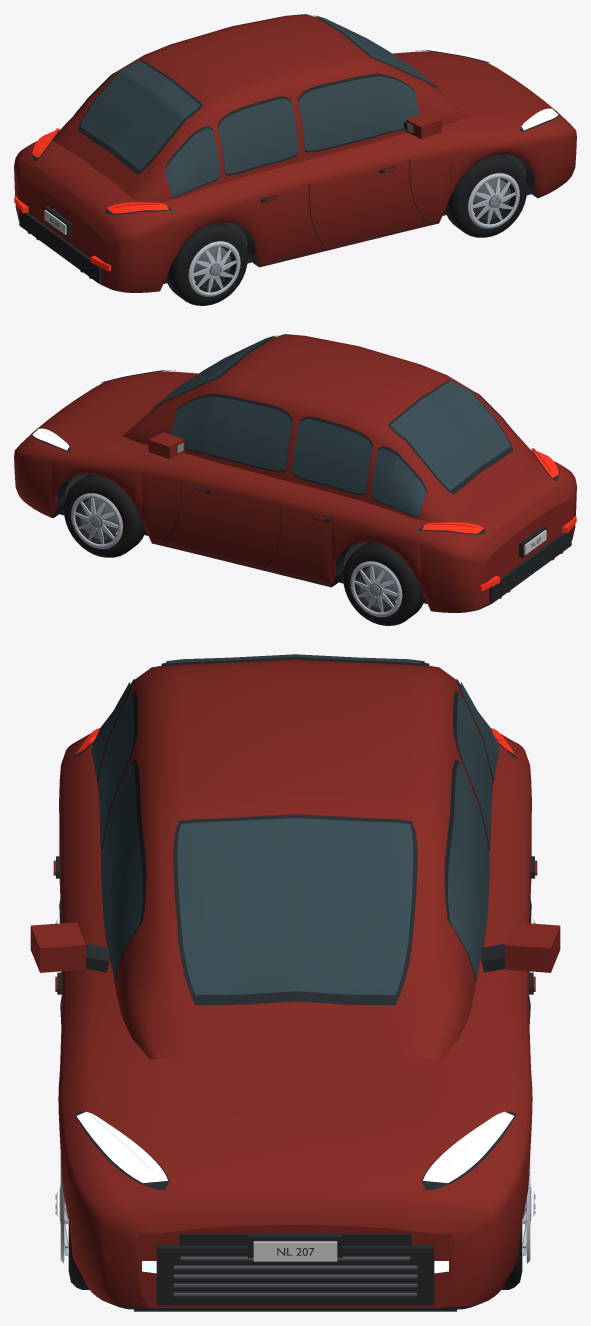
The model's file is northline-5-static-mobile.glb.
3 views of the same model, one above another, from view 1: azimuth 30°, elevation 25°; view 2: azimuth 150°, elevation 25°; view 3: azimuth 270°, elevation 25° (orthographic). The views are drawn at different scales.
Visible parts, largest first — view 1: Northline_5_Static_Mobile; view 2: Northline_5_Static_Mobile; view 3: Northline_5_Static_Mobile.
Part boxes in pixels (x1,y1,x2,y2): Northline_5_Static_Mobile: (14,14,576,305); Northline_5_Static_Mobile: (14,334,576,625); Northline_5_Static_Mobile: (30,654,560,1311).
Size of the model in its own units: 4.19 by 1.59 by 1.98.
